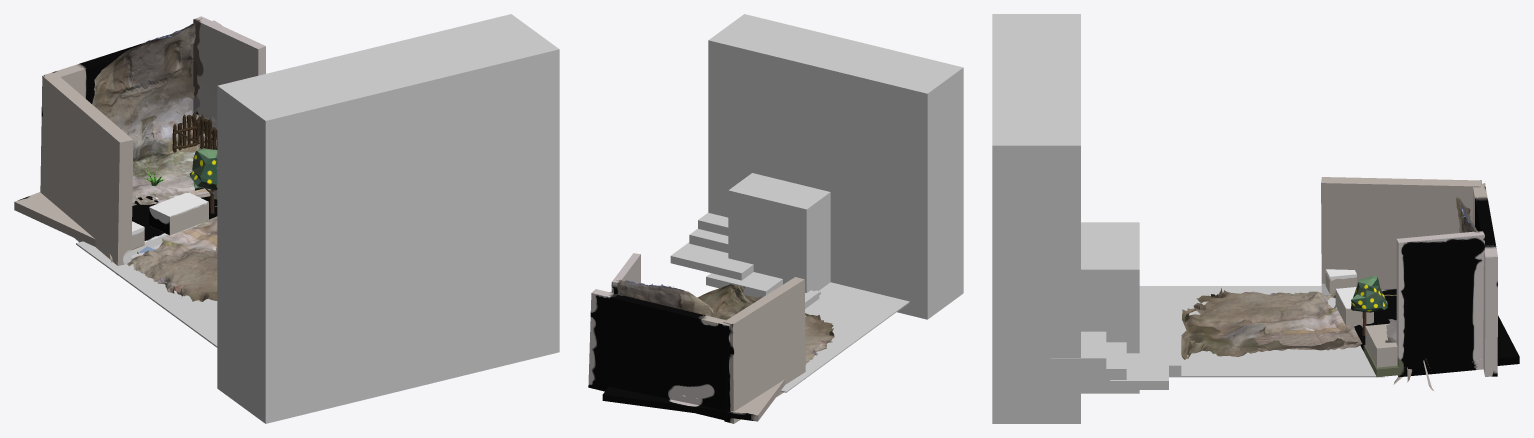
File: BAJO RECONSTRUCCION 3D PARA EL HOMBRE DEL SEÑOR.glb
3 renders of one model, left to right at view 1: azimuth 30°, elevation 25°; view 2: azimuth 150°, elevation 25°; view 3: azimuth 270°, elevation 25°, orthographic. The views are drawn at different scales.
Visible parts, largest first — view 1: Cubo.015, node_id38, node_id29, Mesh_0, node_id35, Cubo, node_id41, mesh_id45, node_id32, node_id57, node_id73, node_id84; view 2: Cubo.015, node_id32, Cubo.016, node_id38, Cubo, node_id41, Mesh_0, Cubo.008, node_id29, Cubo.007, Cubo.009, node_id35 (+1 smaller); view 3: Cubo.015, node_id38, node_id35, Mesh_0, Cubo, Cubo.016, node_id32, node_id41, Cubo.008, Cubo.010, node_id57, Cubo.009 (+5 smaller).
Boxes of the visible parts, x1,y1,x2,y2 form: Cubo.015: (217,14,559,423); node_id38: (40,73,133,265); node_id29: (92,18,217,208); Mesh_0: (108,206,217,301); node_id35: (193,16,265,119); Cubo: (76,241,217,347); node_id41: (14,192,217,254); mesh_id45: (149,192,208,235); node_id32: (44,20,221,111); node_id57: (189,148,217,213); node_id73: (172,111,200,152); node_id84: (195,114,217,149); Cubo.015: (708,14,963,319); node_id32: (588,289,729,420); Cubo.016: (728,173,830,292); node_id38: (723,277,805,423); Cubo: (780,282,909,392); node_id41: (602,379,784,421); Mesh_0: (697,284,834,373); Cubo.008: (670,242,753,280); node_id29: (616,279,713,399); Cubo.007: (706,272,782,297); Cubo.009: (689,229,728,252); node_id35: (611,253,640,294); Cubo.015: (992,14,1080,423); node_id38: (1321,177,1481,295); node_id35: (1396,231,1484,377); Mesh_0: (1181,288,1362,359); Cubo: (1139,286,1384,377); Cubo.016: (1081,222,1139,393); node_id32: (1472,183,1497,376); node_id41: (1335,290,1519,377); Cubo.008: (1110,338,1168,389); Cubo.010: (1050,331,1106,368); node_id57: (1351,276,1387,335); Cubo.009: (1079,342,1126,379).
Size of the model in its own units: 0.6234 by 0.6081 by 1.04.
13 materials, 13 textured.
